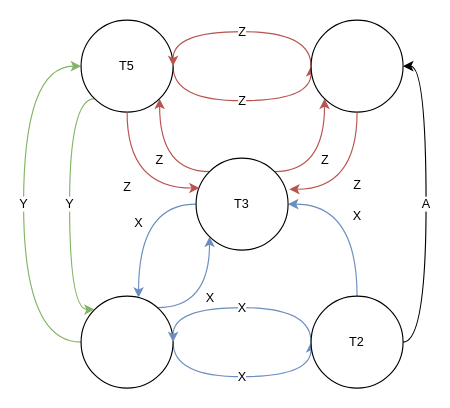
Image size: 450x408. Some labels were removed from this diagram. The shapes that lost their labels are listed below. From the top down, each one's centre as x and y in pixels, then its label:
the point at 356,65: T4
the point at 126,341: T1
